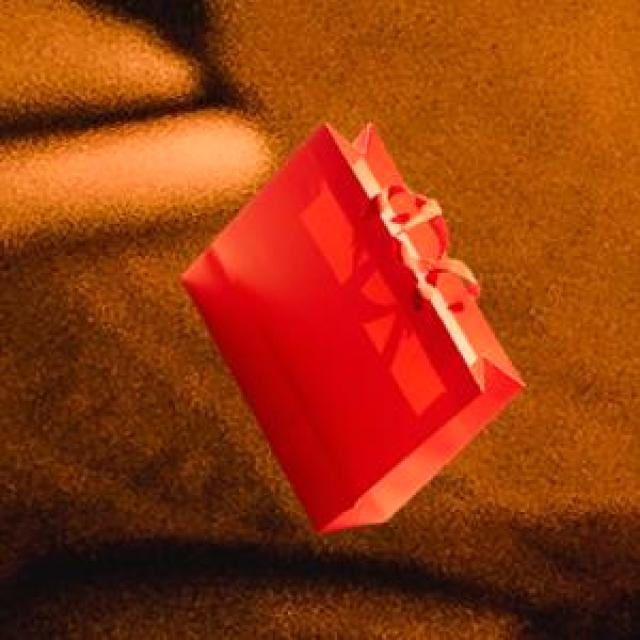Paper_Bag: (178, 120, 522, 530)
